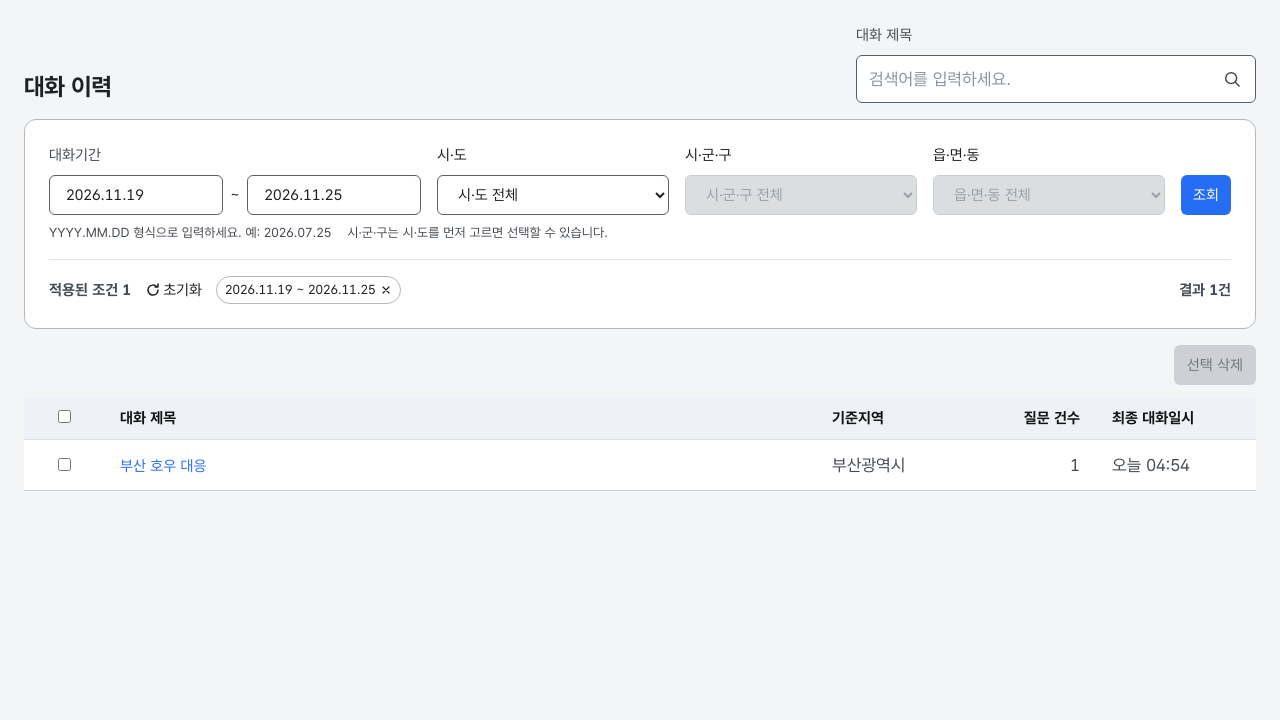
Test case: 대화 이력 목록 › 처음은 최근 일주일 — 적용된 조건 1, 기간 딱지를 떼면 전체 기간
Expected: the text "적용된 조건 1" is shown, 49,278 -> 131,302
Expected: the text "지난달 대화" is not shown
Click the button named "조건 해제" at (308, 290), box 216,276 -> 400,304
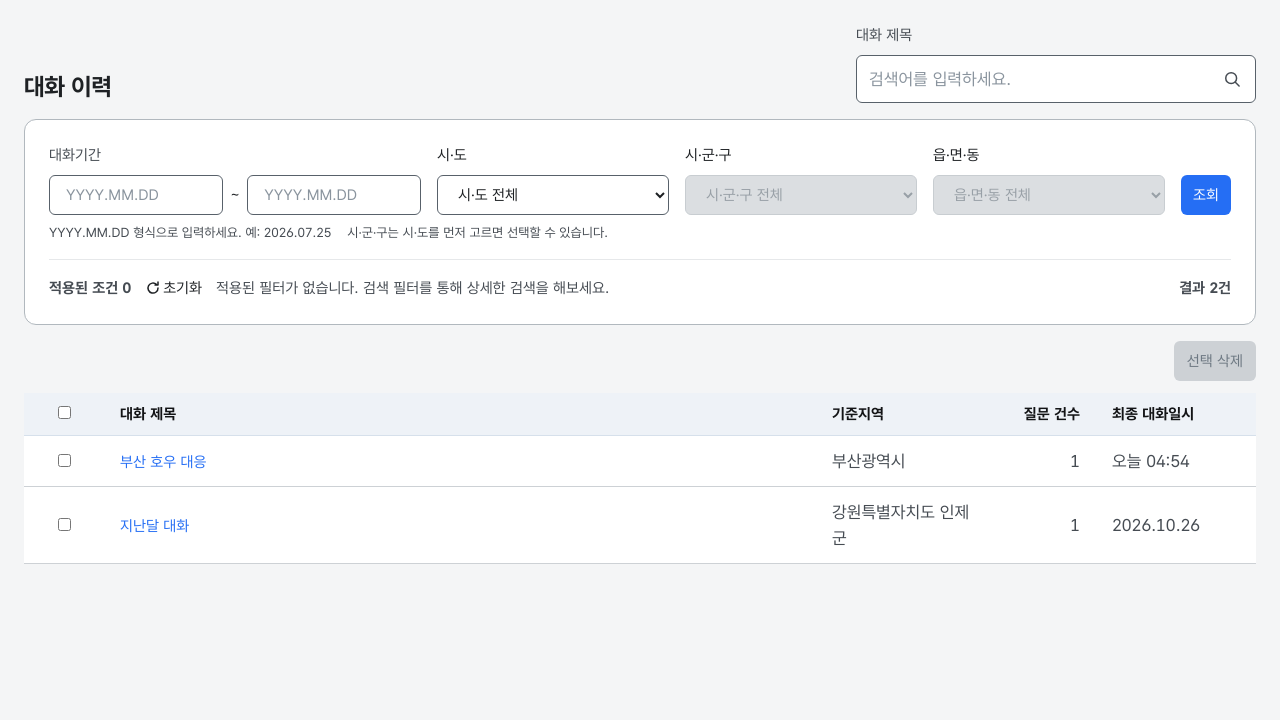
Result: the text "적용된 조건 0" is shown at 49,276 -> 131,300
Result: the text "적용된 필터가 없습니다. 검색 필터를 통해 상세한 검색을 해보세요." is shown at 216,276 -> 609,300
Result: the button "지난달 대화" is shown at 120,517 -> 189,535
Click the button "초기화" at (174, 288), box 143,276 -> 204,300
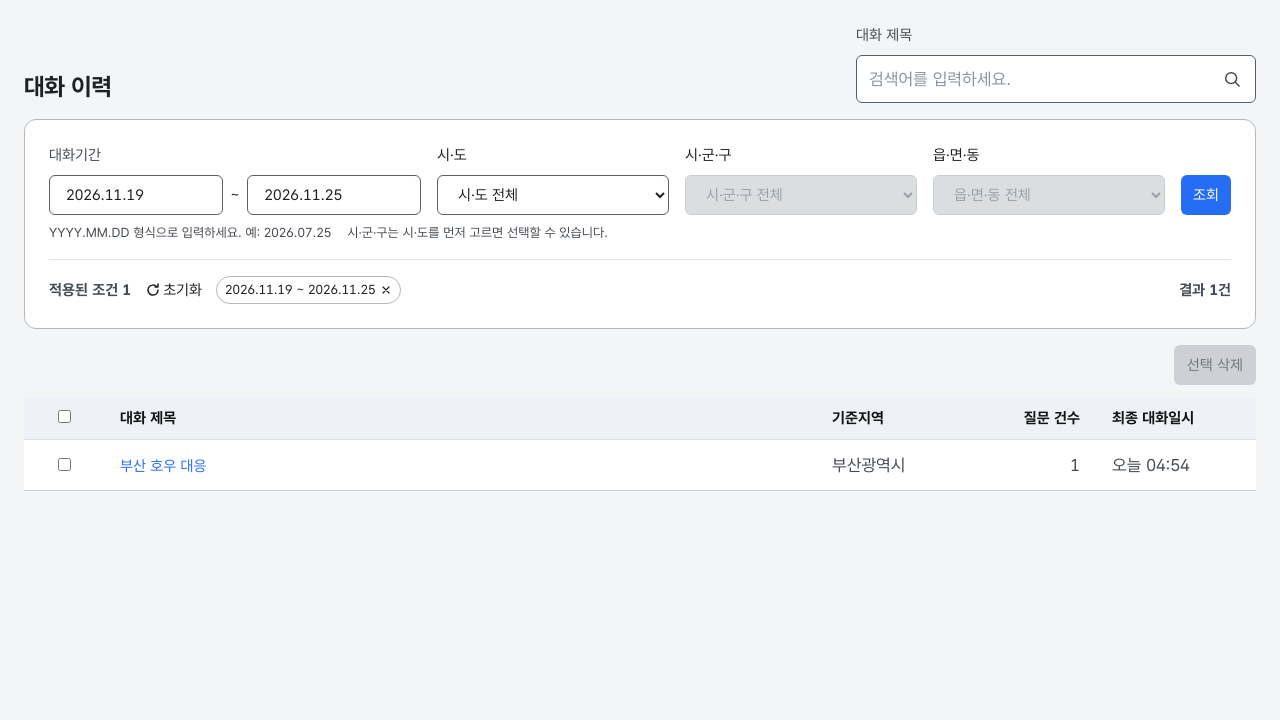
Result: the text "적용된 조건 1" is shown at 49,278 -> 131,302
